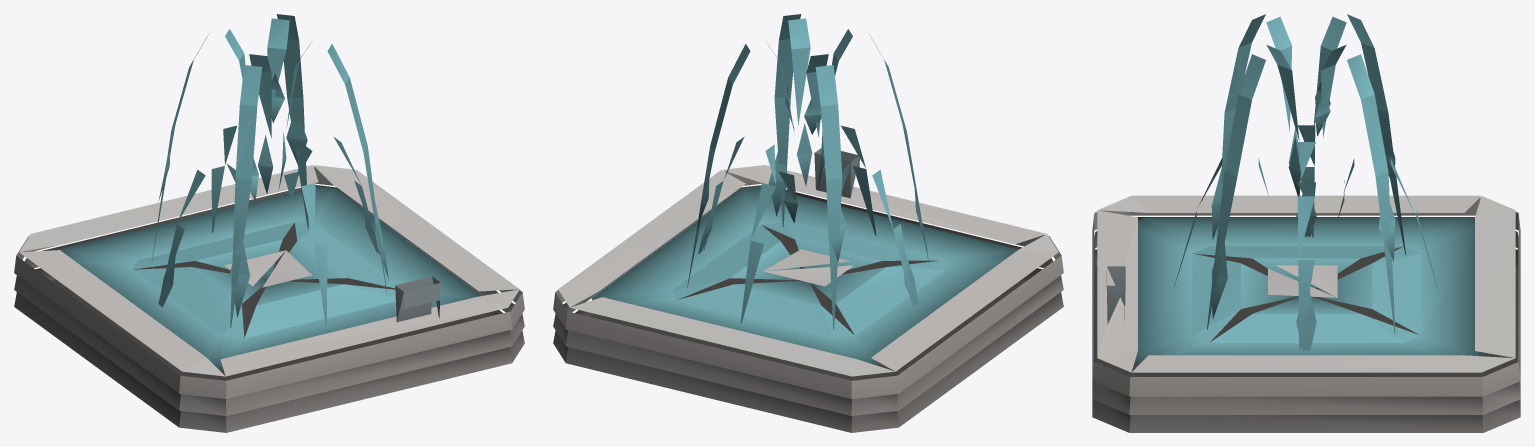
Rendered from fountain.lod.glb.
3 views of the same model, side by side, from view 1: azimuth 30°, elevation 25°; view 2: azimuth 150°, elevation 25°; view 3: azimuth 270°, elevation 25° (orthographic). The views are drawn at different scales.
Parts seen in each view (by area): view 1: fountain.001; view 2: fountain.001; view 3: fountain.001.
Part boxes in pixels (bbox=[...]): fountain.001: bbox=[14, 14, 524, 432]; fountain.001: bbox=[553, 14, 1063, 432]; fountain.001: bbox=[1092, 14, 1520, 432].
Size of the model in its own units: 4.8 by 3.82 by 4.8.
